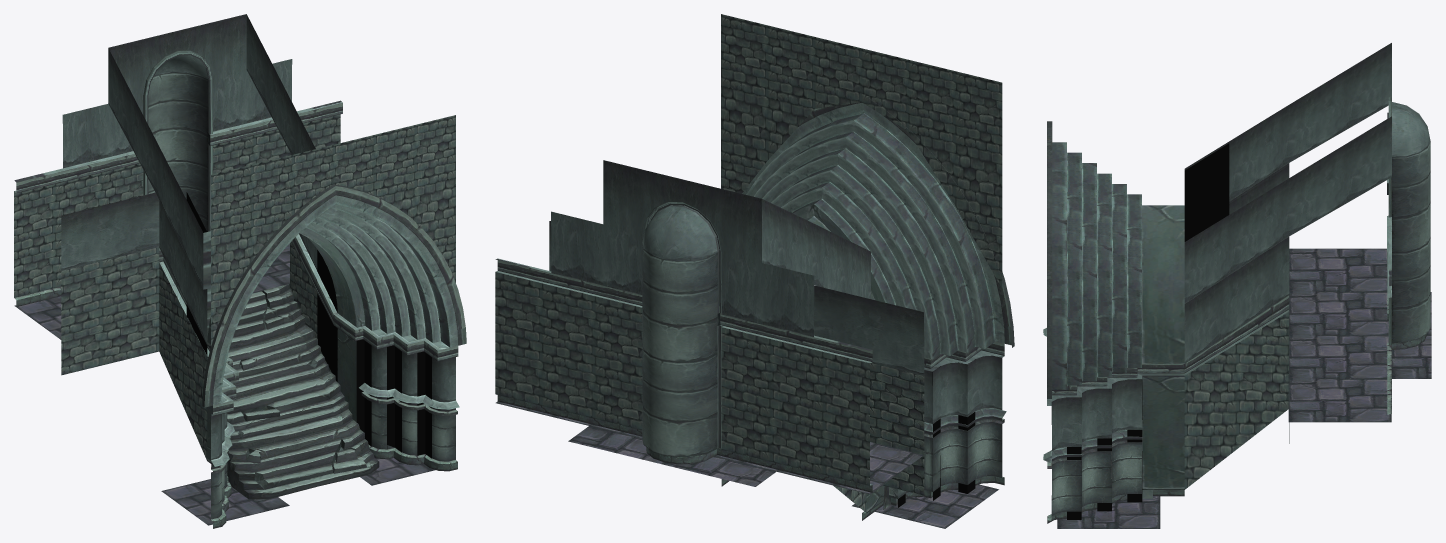
File: crypt_entry_stairs_01.fbx
3 views of the same model, side by side, from view 1: azimuth 30°, elevation 25°; view 2: azimuth 150°, elevation 25°; view 3: azimuth 270°, elevation 25° (orthographic). The views are drawn at different scales.
Visible parts, largest first — view 1: crypt_entry_stairs_01-0; view 2: crypt_entry_stairs_01-0; view 3: crypt_entry_stairs_01-0.
Boxes of the visible parts, bbox=[...] form: crypt_entry_stairs_01-0: bbox=[14, 14, 466, 528]; crypt_entry_stairs_01-0: bbox=[495, 14, 1014, 528]; crypt_entry_stairs_01-0: bbox=[1043, 43, 1431, 528].
Size of the model in its own units: 16 by 16.51 by 15.11.
